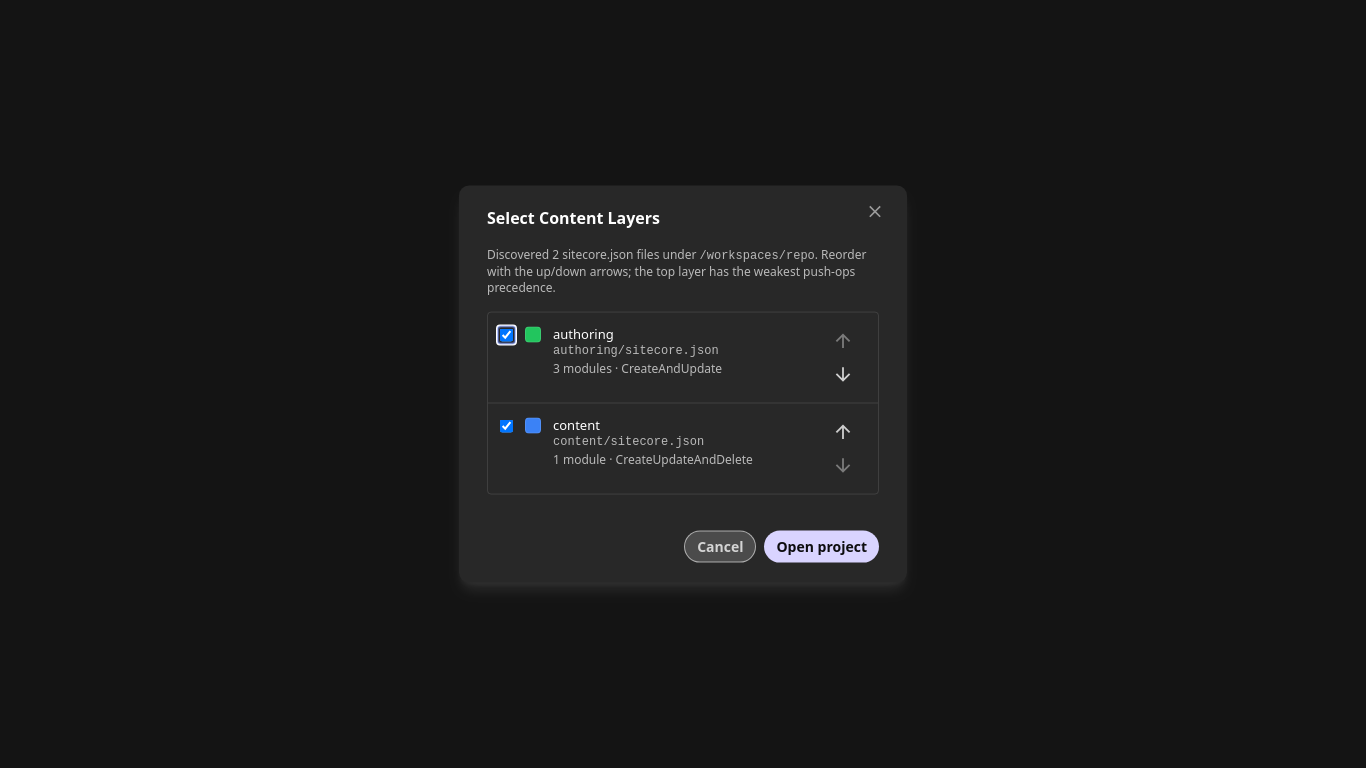
Test: LayerSelectionDialog › disables Open project when nothing is checked
Click the checkbox named "Include layer authoring". click: (506, 335)
box: x1=500 y1=328 x2=513 y2=341
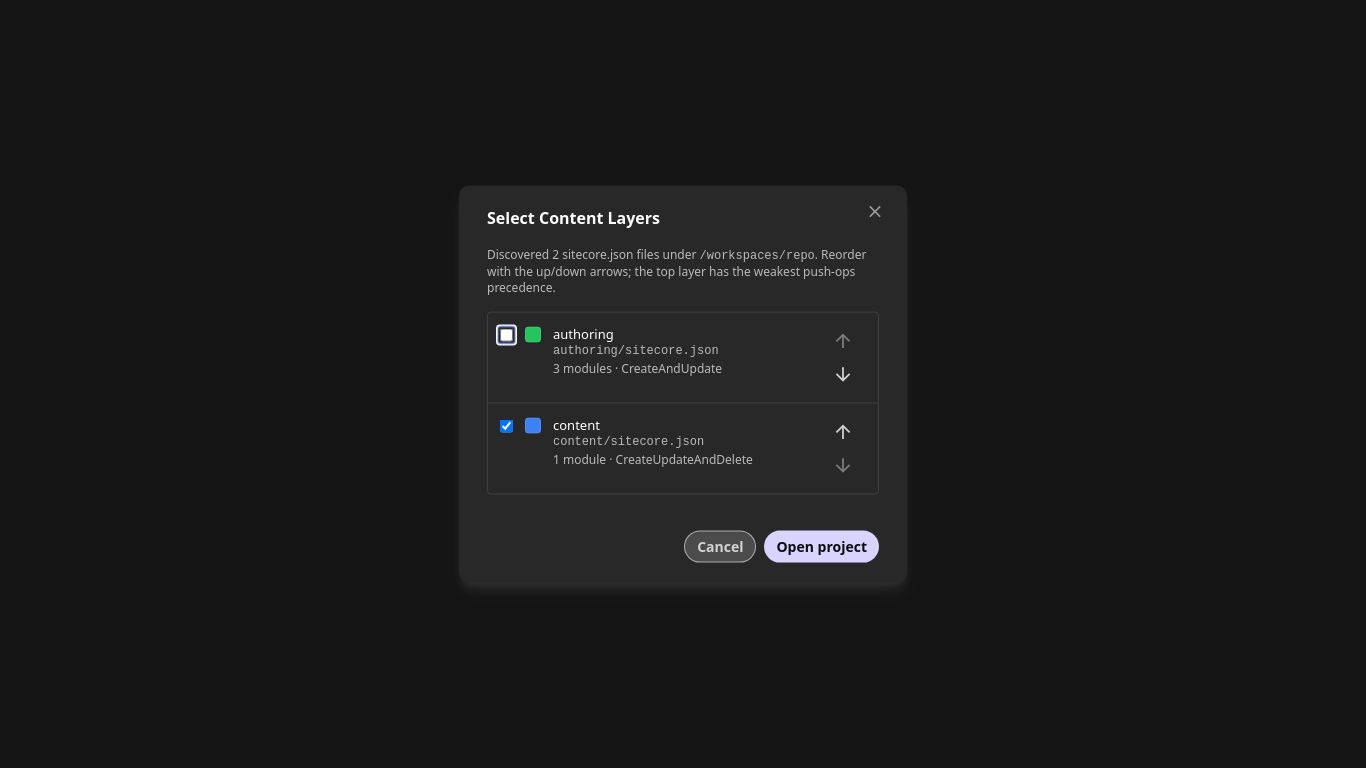
Click the checkbox named "Include layer content". click: (506, 426)
box: x1=500 y1=419 x2=513 y2=432
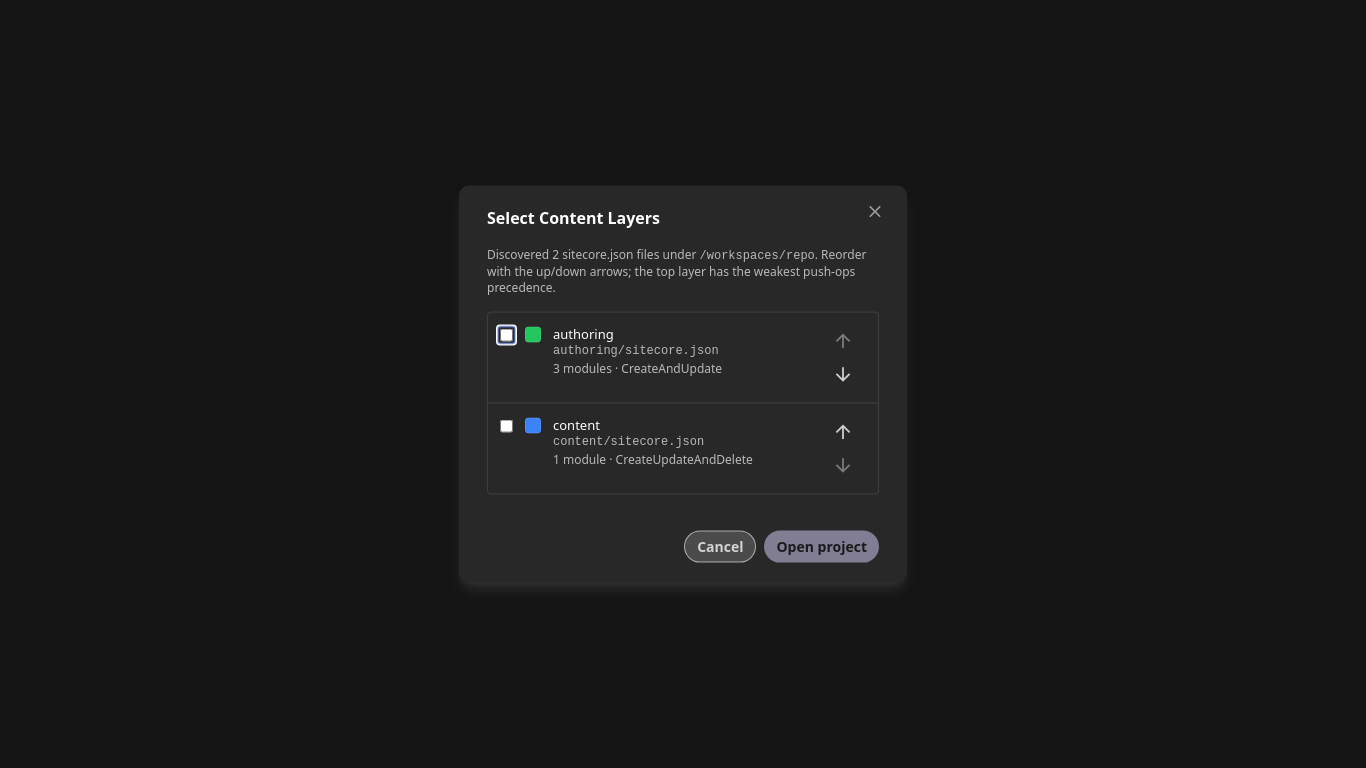
Expected: the button "Open project" is disabled, x1=764 y1=530 x2=879 y2=562
